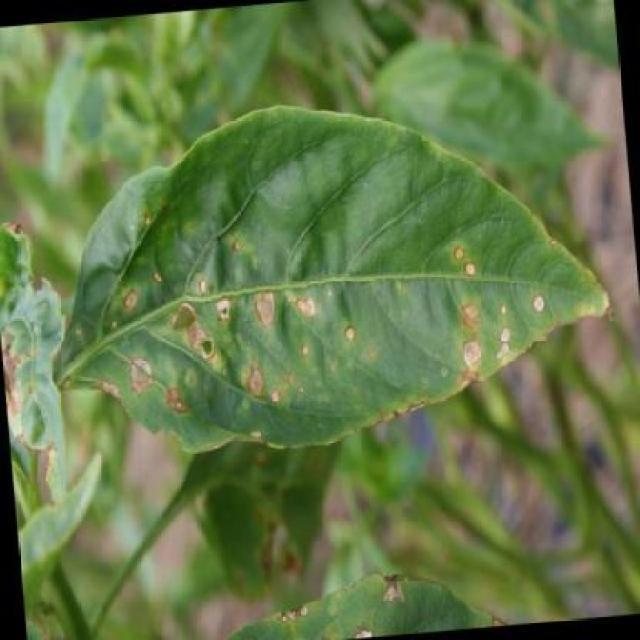Tomato leaf bacterial spot: (42, 80, 628, 472)
